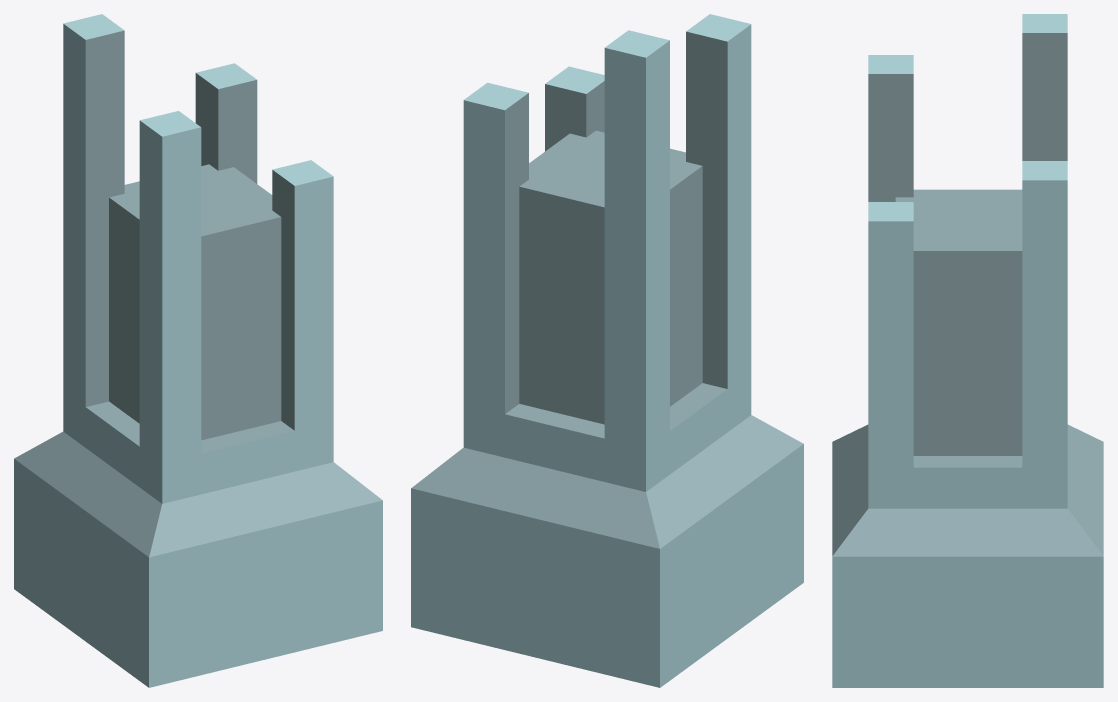
The model's file is d_kenney_colonne_brisee.glb.
3 views of the same model, side by side, from view 1: azimuth 30°, elevation 25°; view 2: azimuth 150°, elevation 25°; view 3: azimuth 270°, elevation 25° (orthographic). The views are drawn at different scales.
Parts seen in each view (by area): view 1: d_kenney_colonne_brisee; view 2: d_kenney_colonne_brisee; view 3: d_kenney_colonne_brisee.
Boxes of the visible parts, x1,y1,x2,y2 form: d_kenney_colonne_brisee: (14,14,382,687); d_kenney_colonne_brisee: (411,14,803,687); d_kenney_colonne_brisee: (832,14,1103,687).
Bounding box in the file's own units: 0.3 × 0.7 × 0.3.
Materials: 1 (1 with a texture image).
